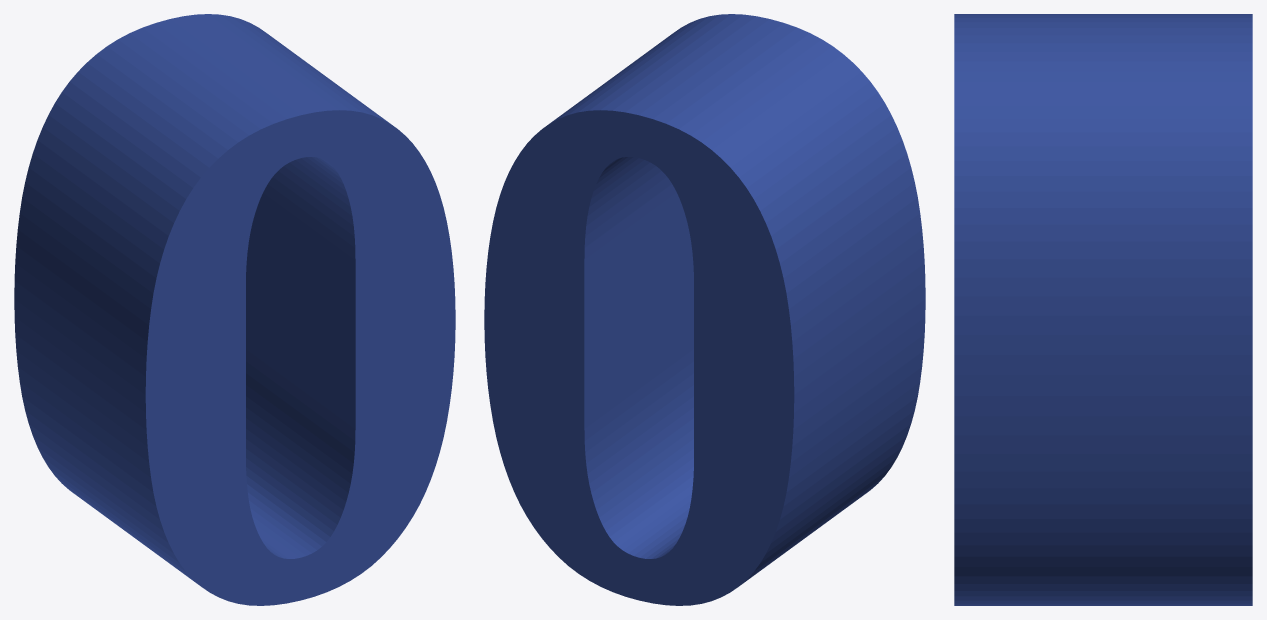
File: tinker.obj
3 views of the same model, side by side, from view 1: azimuth 30°, elevation 25°; view 2: azimuth 150°, elevation 25°; view 3: azimuth 270°, elevation 25° (orthographic). The views are drawn at different scales.
Parts seen in each view (by area): view 1: obj_0; view 2: obj_0; view 3: obj_0.
Part boxes in pixels (left/top/right/bottom): obj_0: left=14, top=14, right=455, bottom=605; obj_0: left=484, top=14, right=925, bottom=605; obj_0: left=954, top=14, right=1252, bottom=605.
Bounding box in the file's own units: 76.19 × 114 × 55.94.
